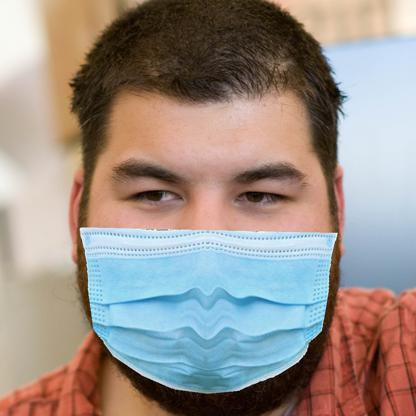mask: (77, 219, 340, 390)
